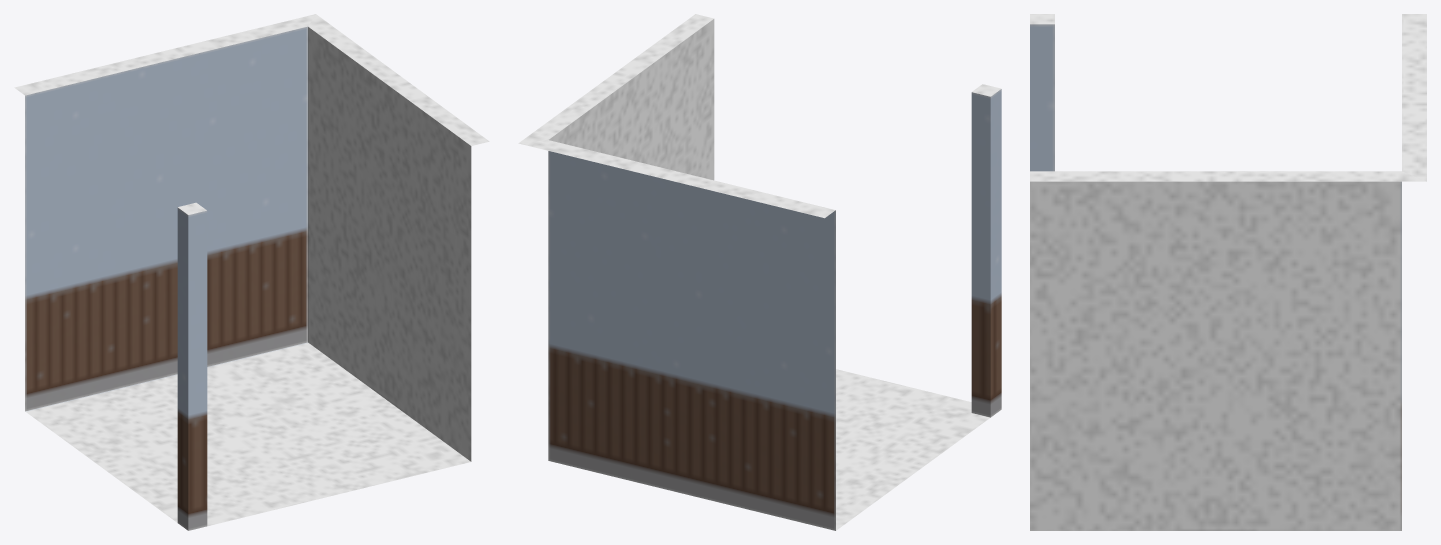
Rendered from hallWideCorner.fbx.
3 renders of one model, left to right at view 1: azimuth 30°, elevation 25°; view 2: azimuth 150°, elevation 25°; view 3: azimuth 270°, elevation 25°, orthographic. The views are drawn at different scales.
Visible parts, largest first — view 1: WideHallCorner2; view 2: WideHallCorner2; view 3: WideHallCorner2.
Part boxes in pixels (left/top/right/bottom): WideHallCorner2: left=14, top=14, right=489, bottom=530; WideHallCorner2: left=518, top=14, right=1001, bottom=530; WideHallCorner2: left=1030, top=14, right=1426, bottom=530.
Size of the model in its own units: 4 by 4 by 4.
